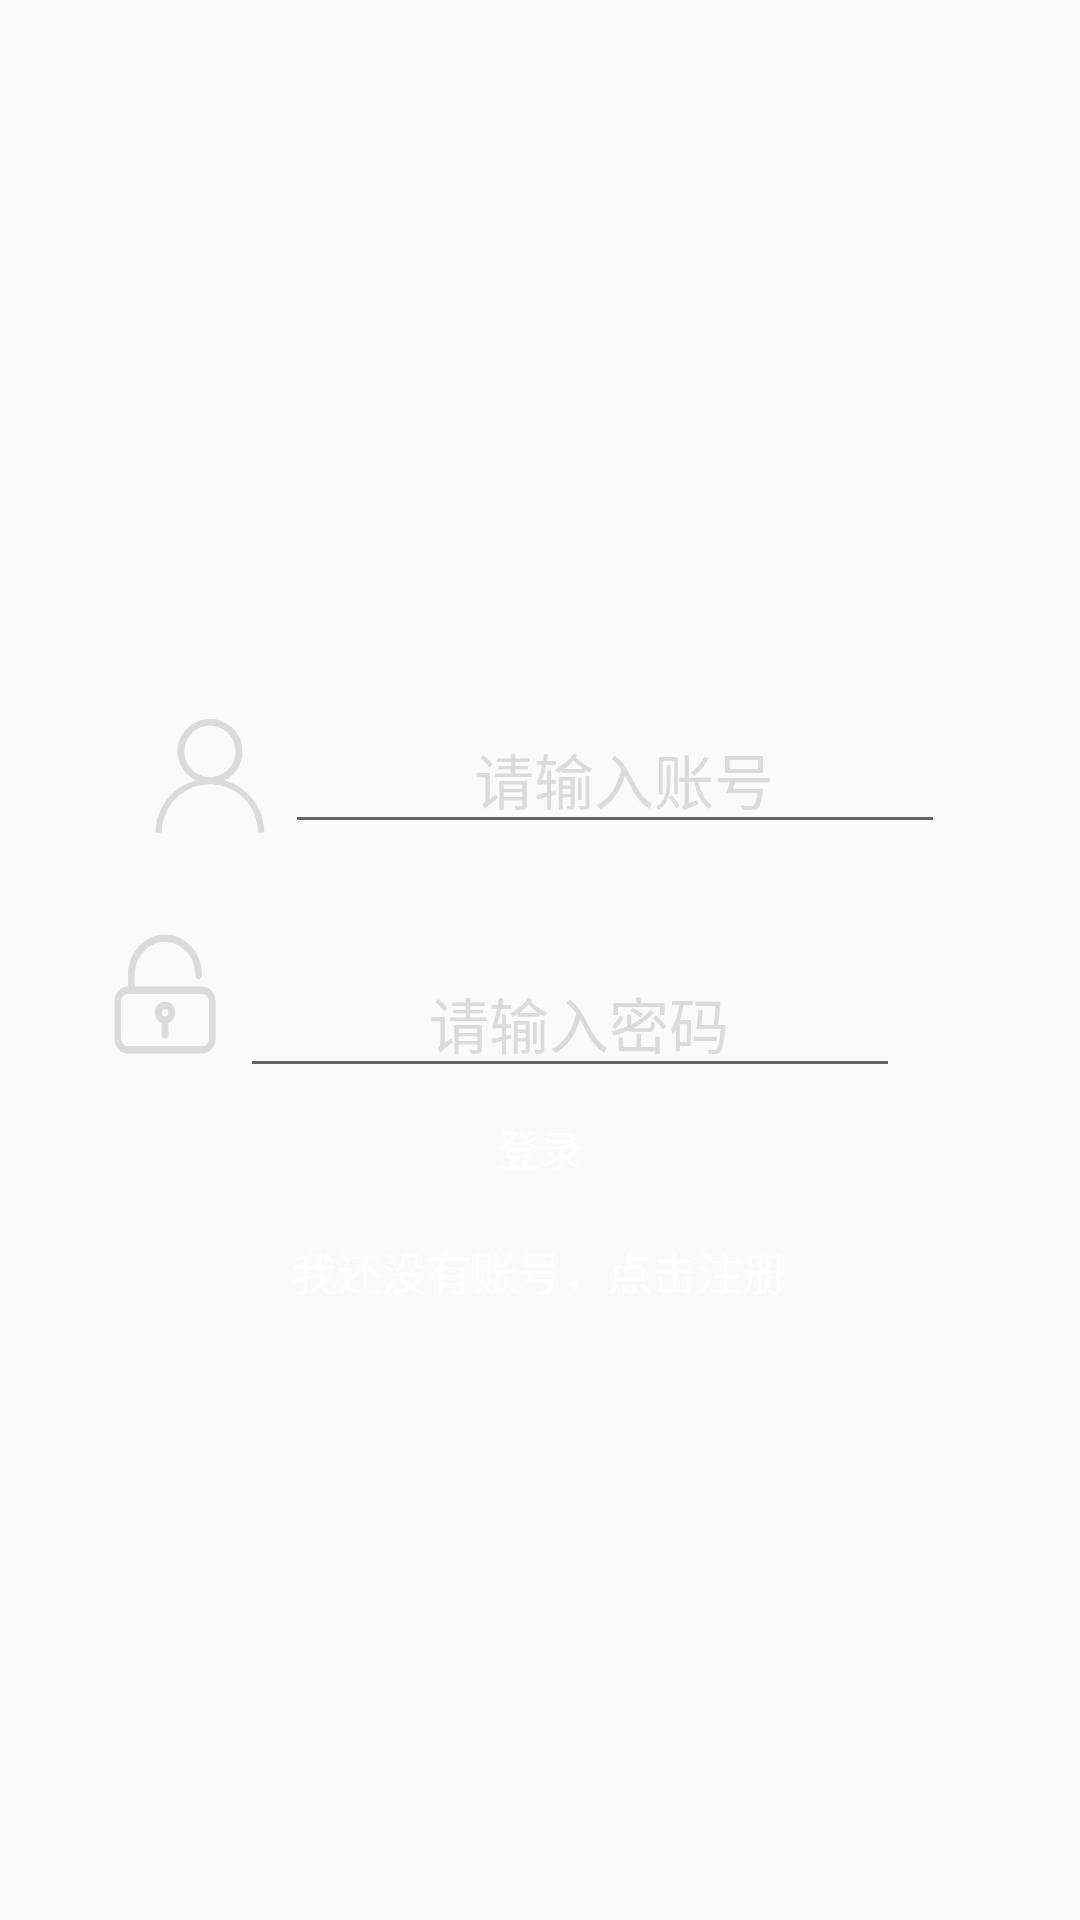

Screen size 1080 x 1920. Icon name, then its center in pixels as [x,y]:
password: [165,994]
